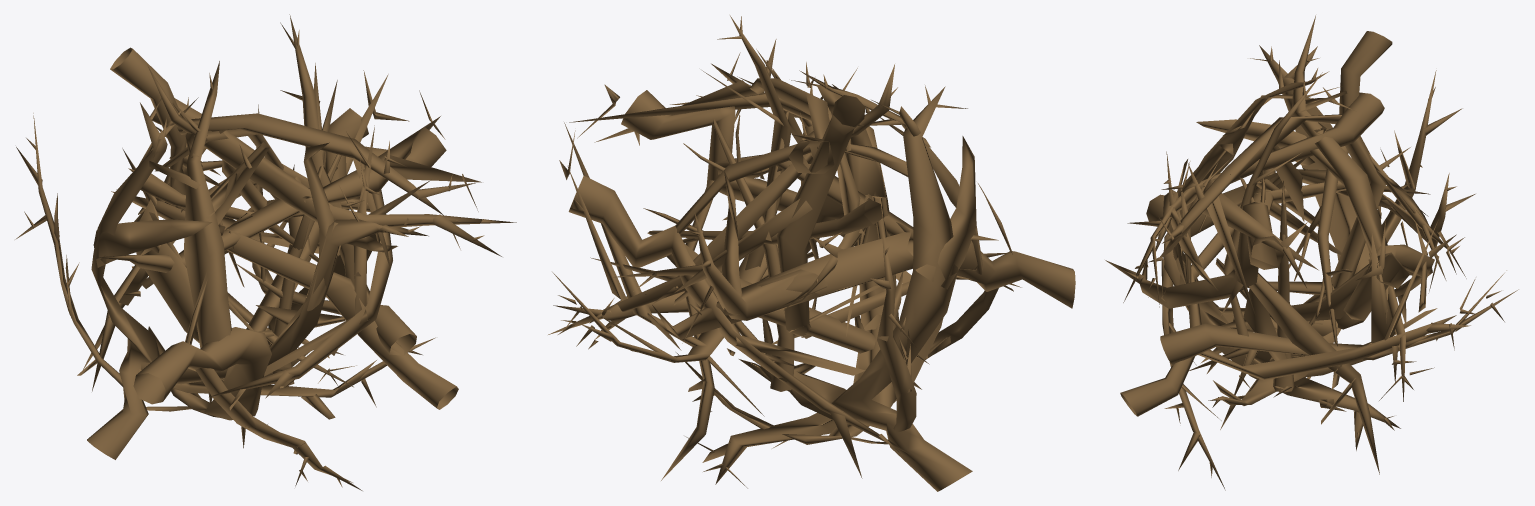
Rendered from tumbleweed.fbx.
The picture shows the model from 3 angles, left to right: view 1: azimuth 30°, elevation 25°; view 2: azimuth 150°, elevation 25°; view 3: azimuth 270°, elevation 25°; orthographic projection. The views are drawn at different scales.
Parts seen in each view (by area): view 1: DeadTree_6; view 2: DeadTree_6; view 3: DeadTree_6.
Boxes of the visible parts, x1,y1,x2,y2 form: DeadTree_6: (15, 14, 516, 490); DeadTree_6: (548, 15, 1075, 491); DeadTree_6: (1105, 15, 1518, 490).
Bounding box in the file's own units: 574 × 608 × 554.
